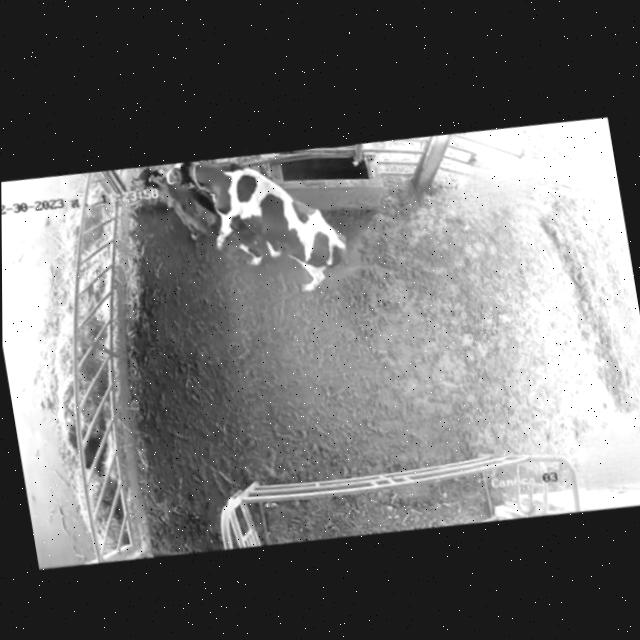ride: (165, 136, 367, 330)
stand: (130, 157, 239, 282)
